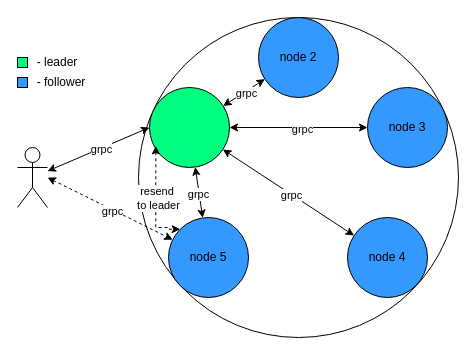
Some shapes in this 476 by 355 pixel diagram are drawn without their labels. Here are the shapes that lost their labels. From the top down, the centre of each, then its label:
pixel 189 127: node 1
pixel 32 177: Client
